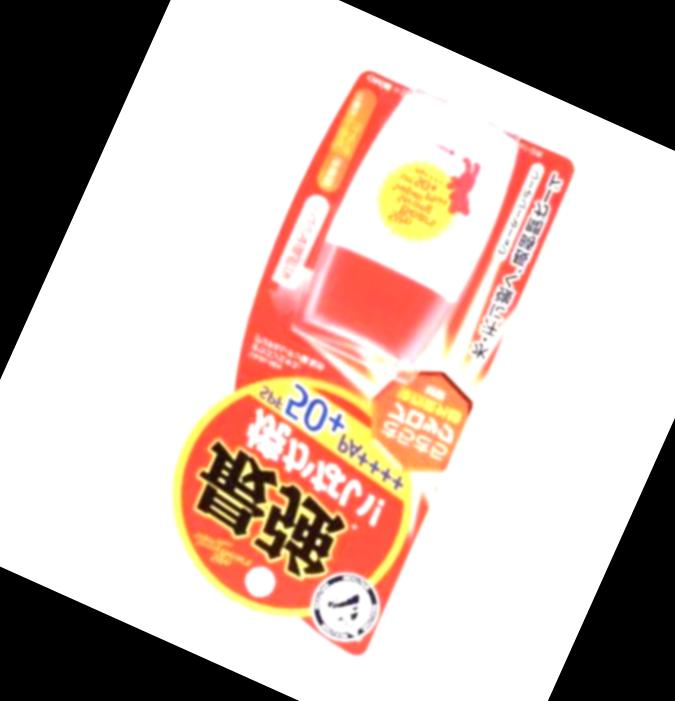cosmetic: (291, 74, 535, 376)
